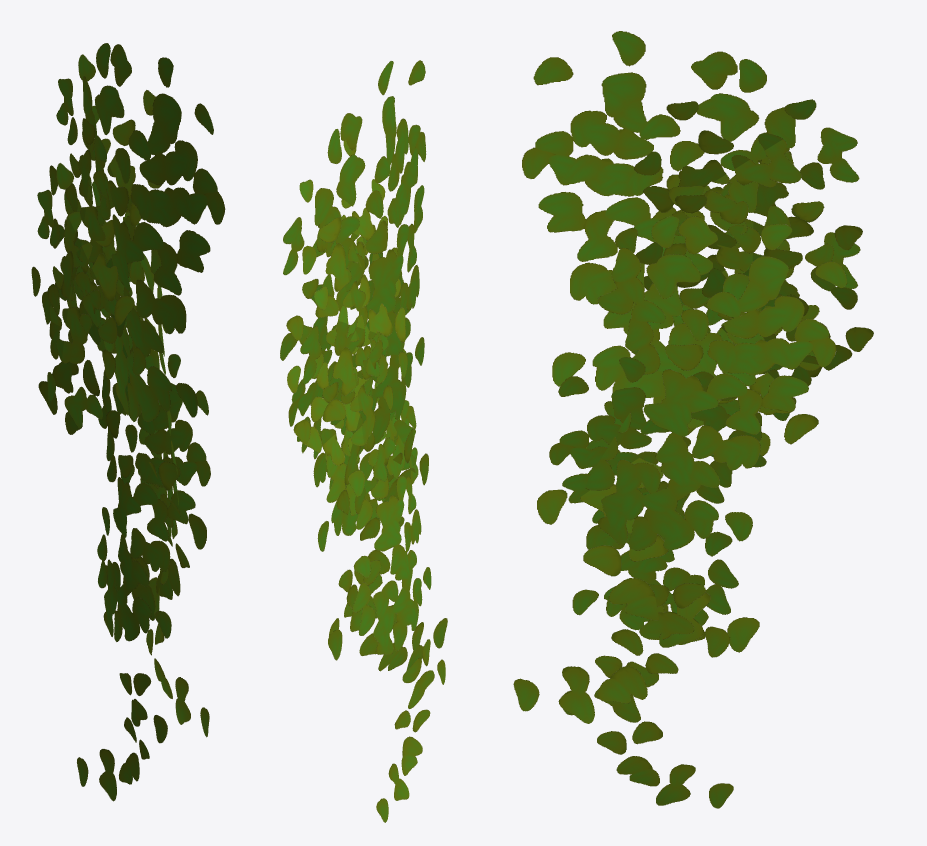
File: SM_Vine_02.fbx
The picture shows the model from 3 angles, left to right: view 1: azimuth 30°, elevation 25°; view 2: azimuth 150°, elevation 25°; view 3: azimuth 270°, elevation 25°; orthographic projection. The views are drawn at different scales.
Visible parts, largest first — view 1: SM_Vine_02_LOD0; view 2: SM_Vine_02_LOD0; view 3: SM_Vine_02_LOD0.
Part boxes in pixels (x1=…): SM_Vine_02_LOD0: x1=31, y1=43, x2=225, y2=801; SM_Vine_02_LOD0: x1=280, y1=60, x2=447, y2=822; SM_Vine_02_LOD0: x1=513, y1=31, x2=873, y2=808.
Bounding box in the file's own units: 44.34 × 207 × 454.
